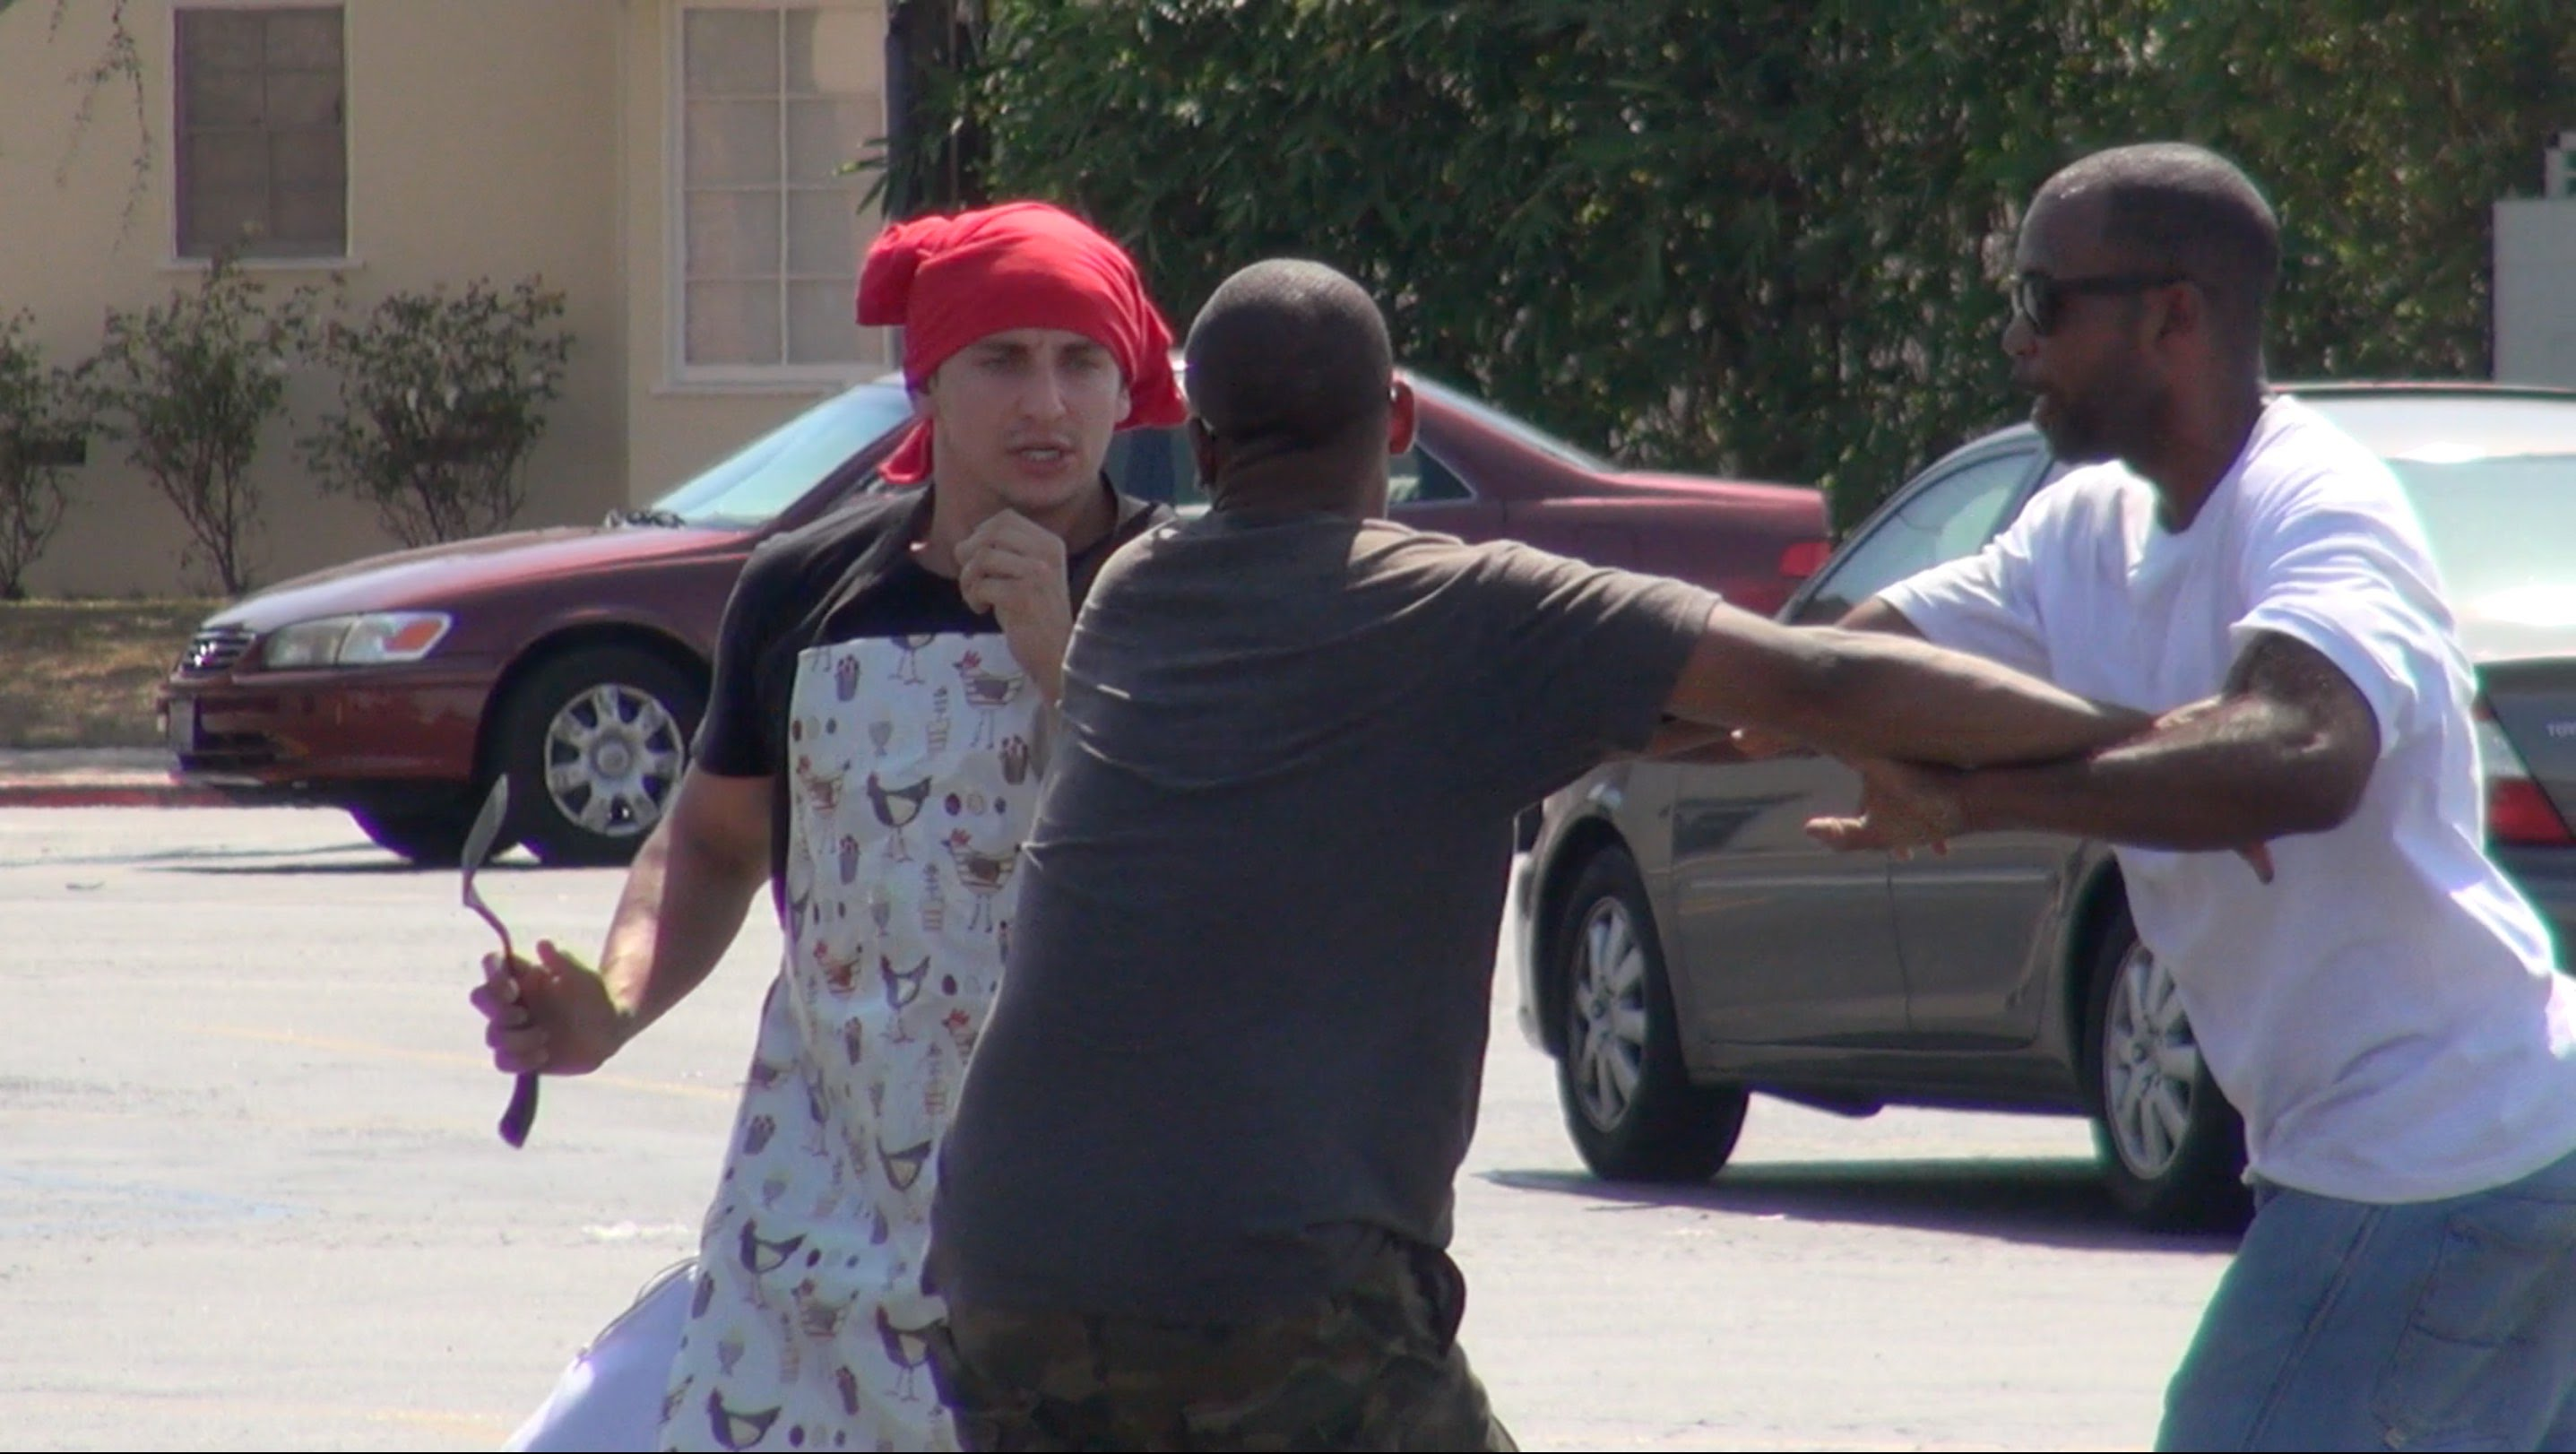Person: (1814, 137, 2576, 1454), (1137, 251, 1818, 1445), (653, 194, 1142, 823)
